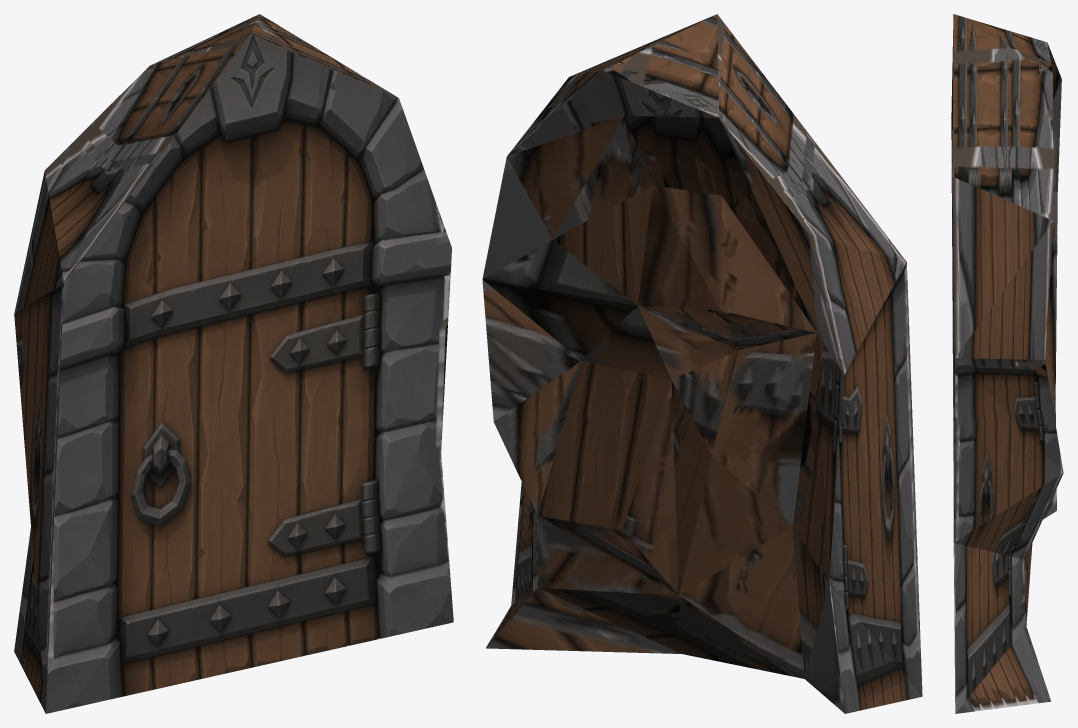
The model's file is SM_Dungeon_Door_A_LOD3.glb.
3 views of the same model, side by side, from view 1: azimuth 30°, elevation 25°; view 2: azimuth 150°, elevation 25°; view 3: azimuth 270°, elevation 25° (orthographic). The views are drawn at different scales.
Parts seen in each view (by area): view 1: SM_Dungeon_Door_A_LOD3; view 2: SM_Dungeon_Door_A_LOD3; view 3: SM_Dungeon_Door_A_LOD3.
Part boxes in pixels (x1,y1,x2,y2): SM_Dungeon_Door_A_LOD3: [14, 14, 453, 713]; SM_Dungeon_Door_A_LOD3: [482, 14, 922, 713]; SM_Dungeon_Door_A_LOD3: [951, 14, 1063, 713].
Bounding box in the file's own units: 2.03 × 3.03 × 0.5094.
1 material, 1 textured.
